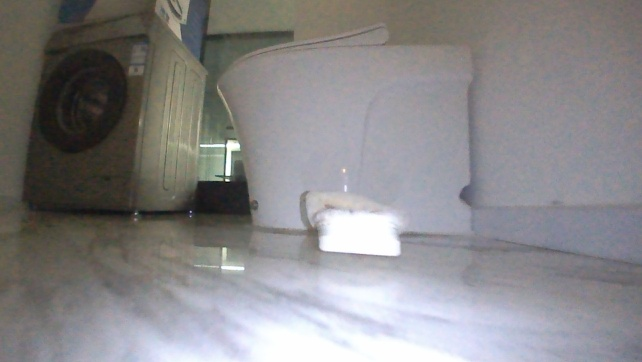tissue_bag: (301, 187, 404, 257)
toilet: (211, 17, 477, 237)
washing_machine: (19, 5, 210, 220)
